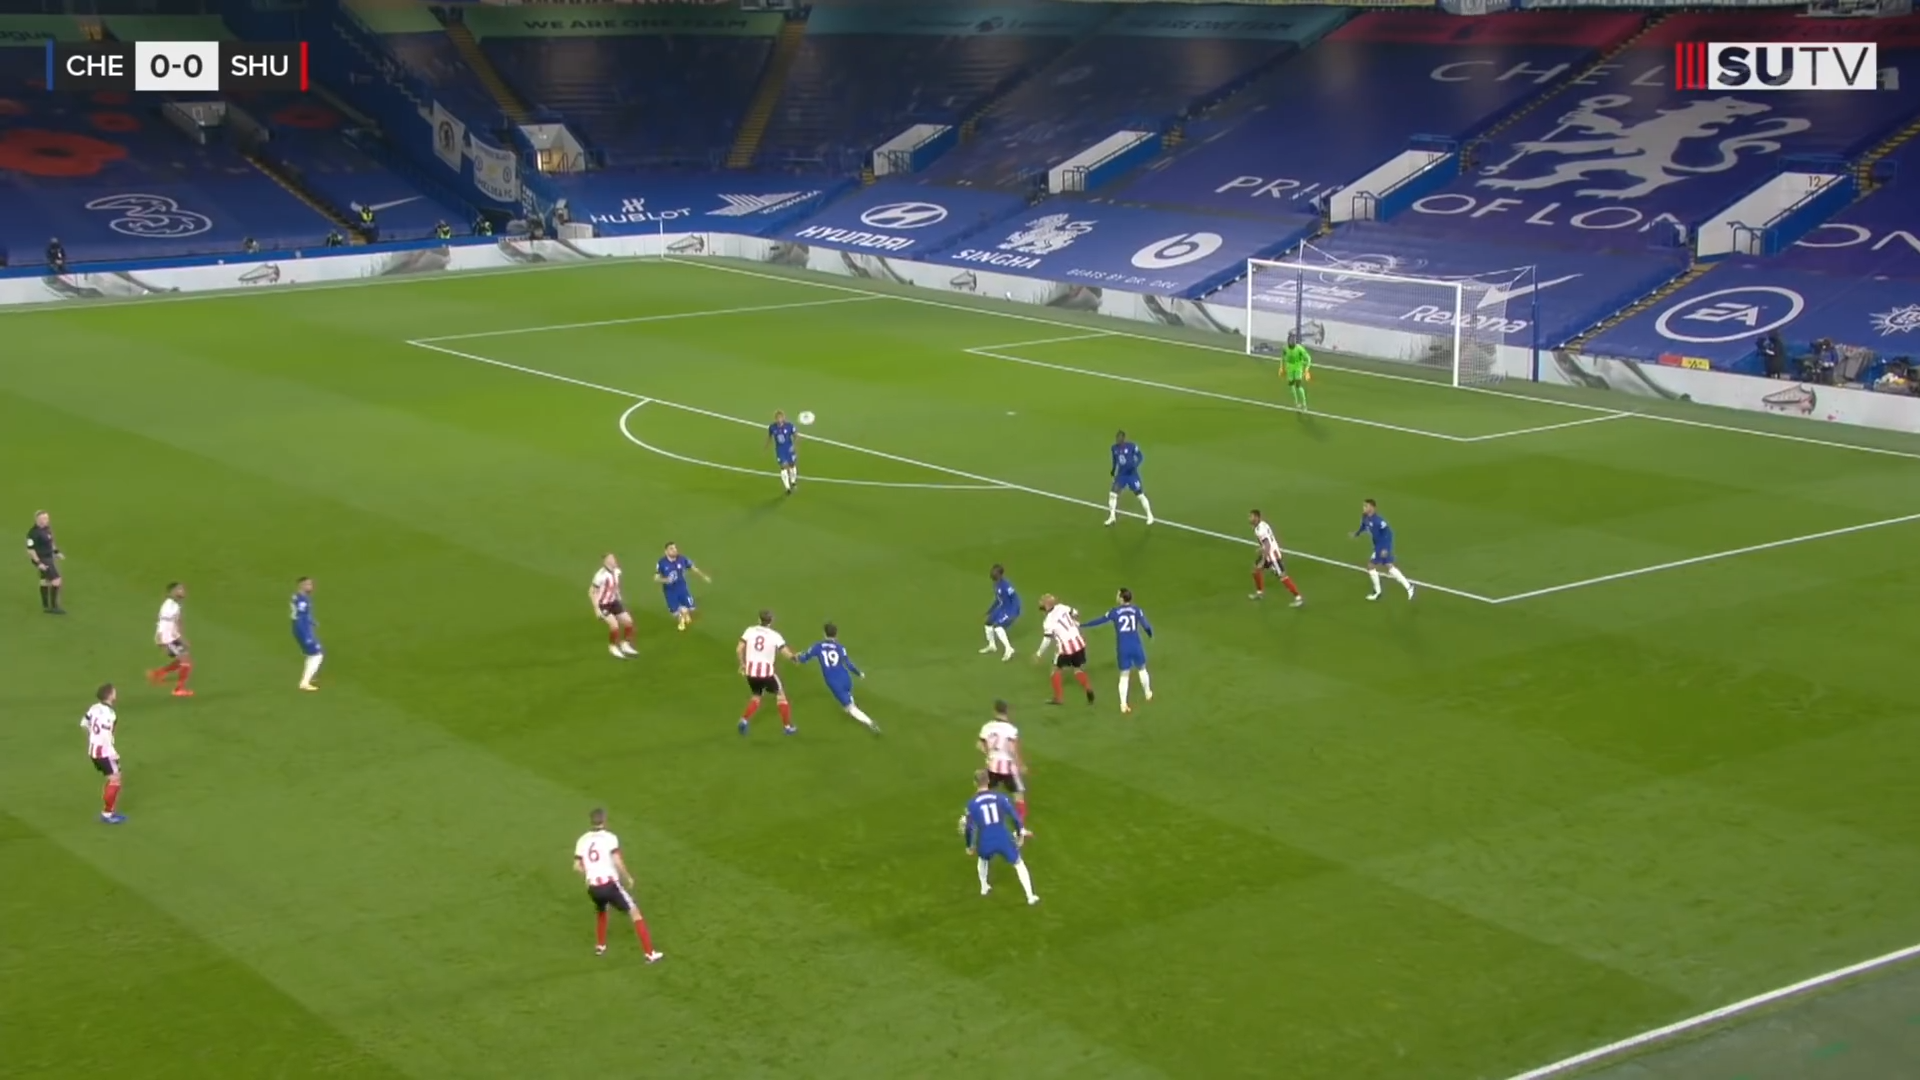Player: (572, 797, 666, 973), (959, 767, 1044, 909), (806, 612, 888, 745), (722, 603, 799, 743), (1233, 501, 1317, 617), (76, 682, 139, 829), (1343, 491, 1415, 609), (581, 537, 644, 667), (144, 580, 209, 704), (272, 563, 324, 693), (1105, 425, 1157, 538)
